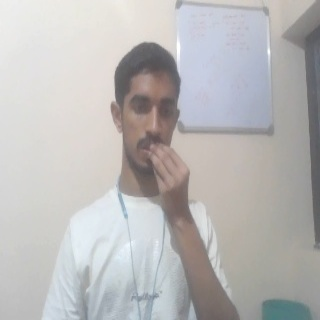Food: (147, 140, 192, 237)
